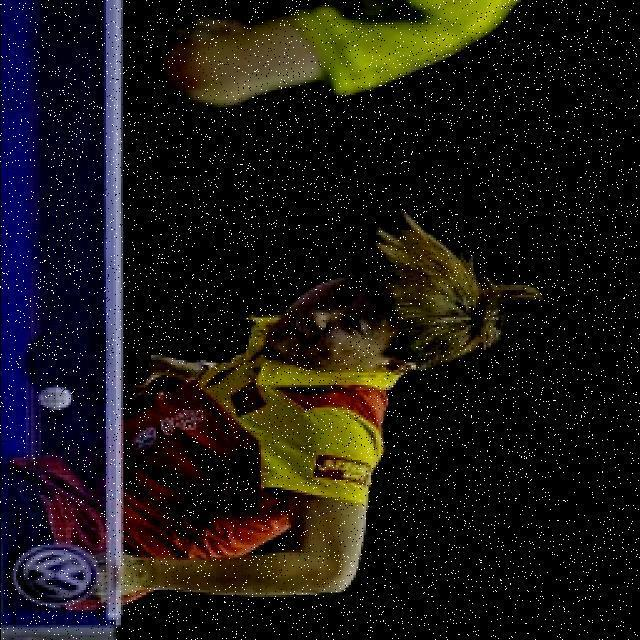ping-pong-ball: (36, 384, 70, 412)
